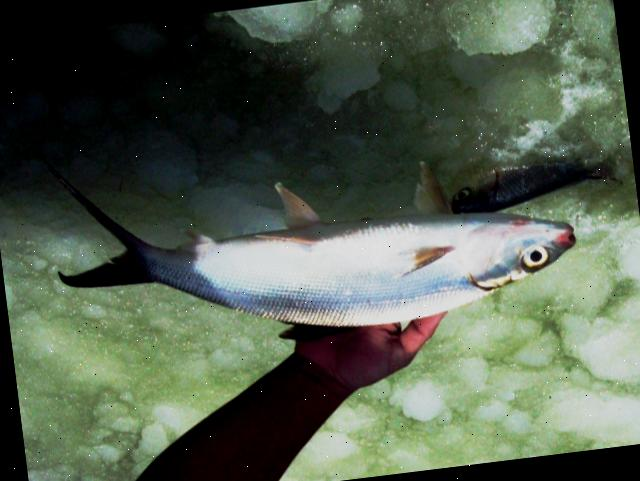Healthy Fish: (44, 158, 574, 328)
